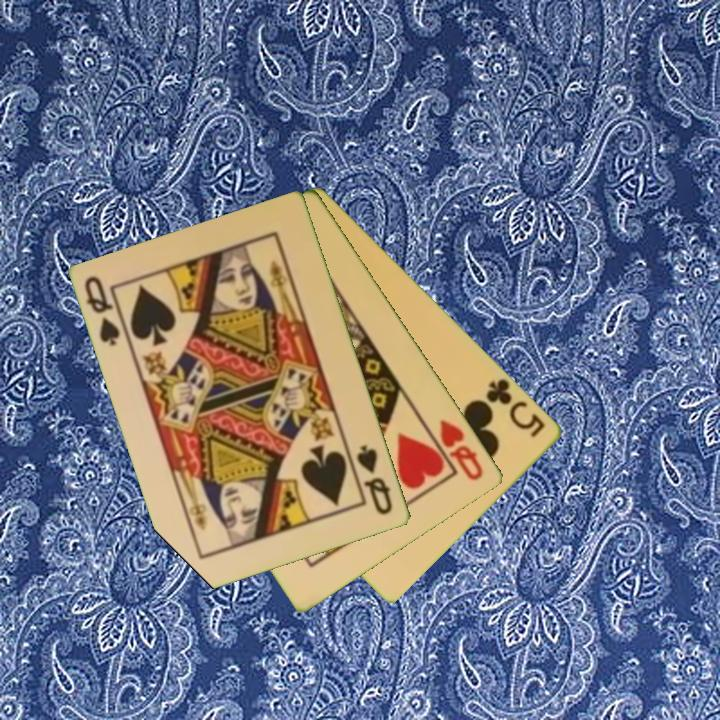5c: (483, 375, 549, 441)
Qh: (437, 415, 487, 484)
Qs: (81, 273, 132, 349), (354, 441, 396, 518)
